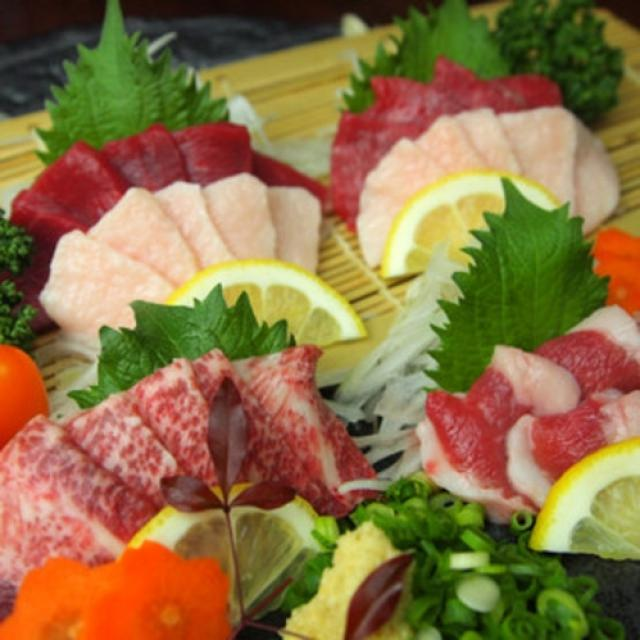刺身生食: (16, 28, 634, 591)
